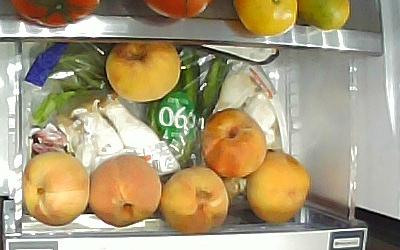peach: (89, 154, 161, 227), (24, 151, 91, 227), (245, 150, 312, 226), (159, 165, 229, 235), (202, 107, 269, 178), (107, 41, 180, 102)
